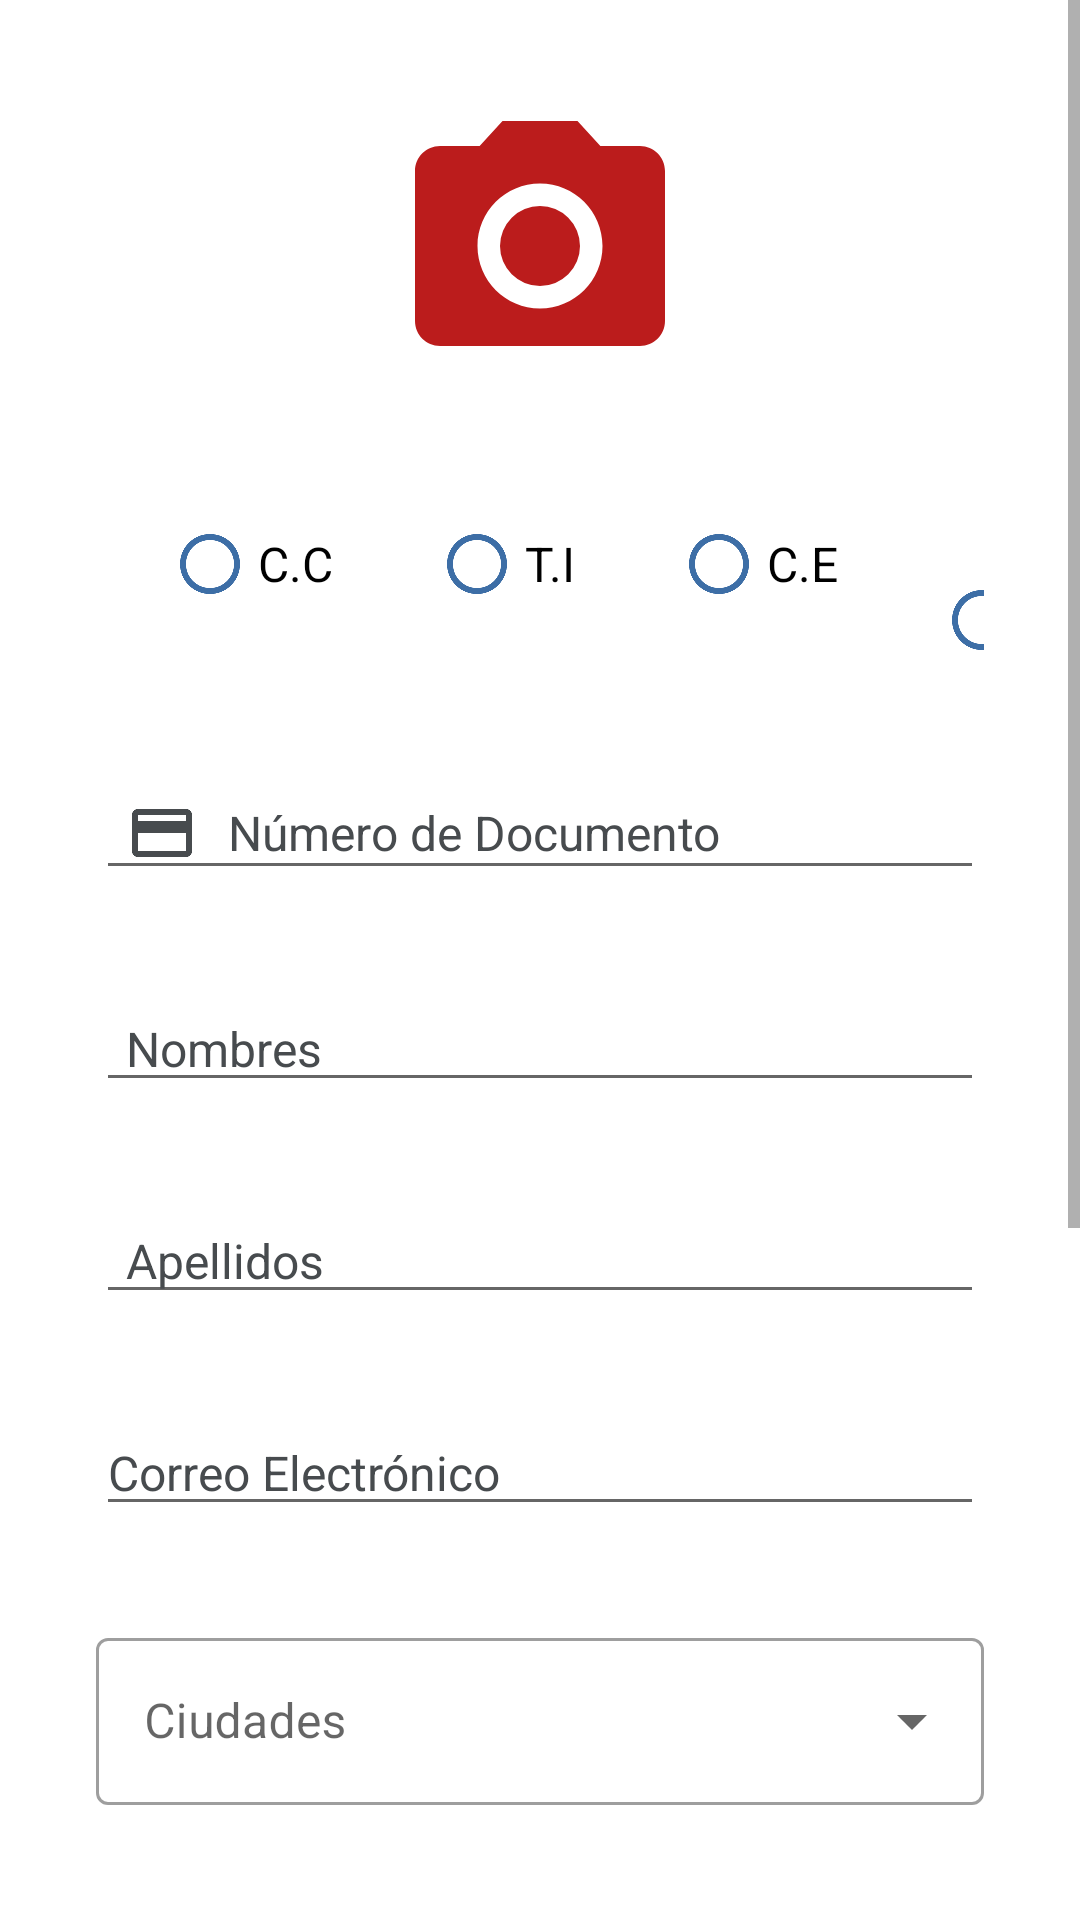

Icon bounding boxes for this 1080 x 1920 phone screenshot, format {"x1": x1, "y1": y1, "x2": x2, "y2": y2}:
camera: {"x1": 415, "y1": 121, "x2": 665, "y2": 346}
